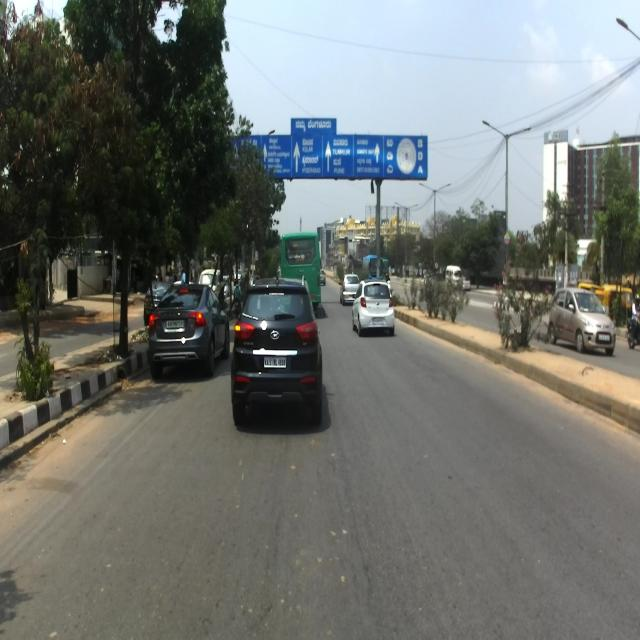Car_Hyundai: (230, 271, 322, 426), (548, 286, 616, 356)
Car_Volvo: (147, 280, 230, 380)
